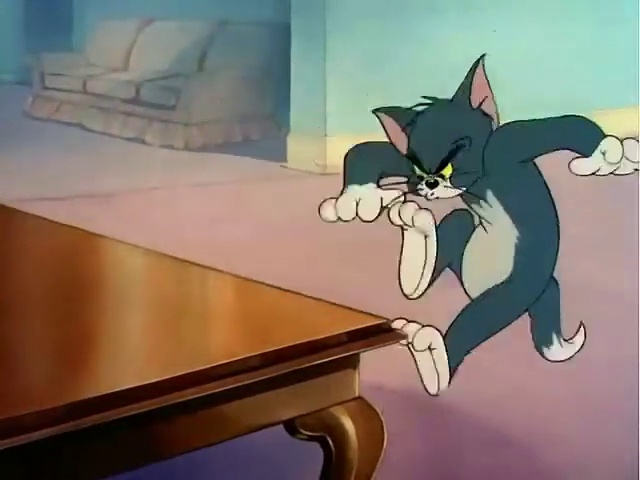tom: (309, 39, 636, 394)
